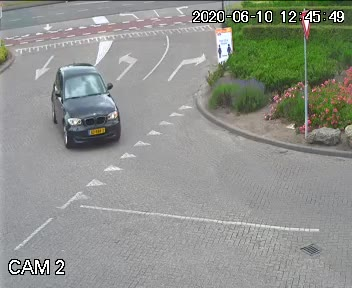car: (51, 49, 119, 159)
